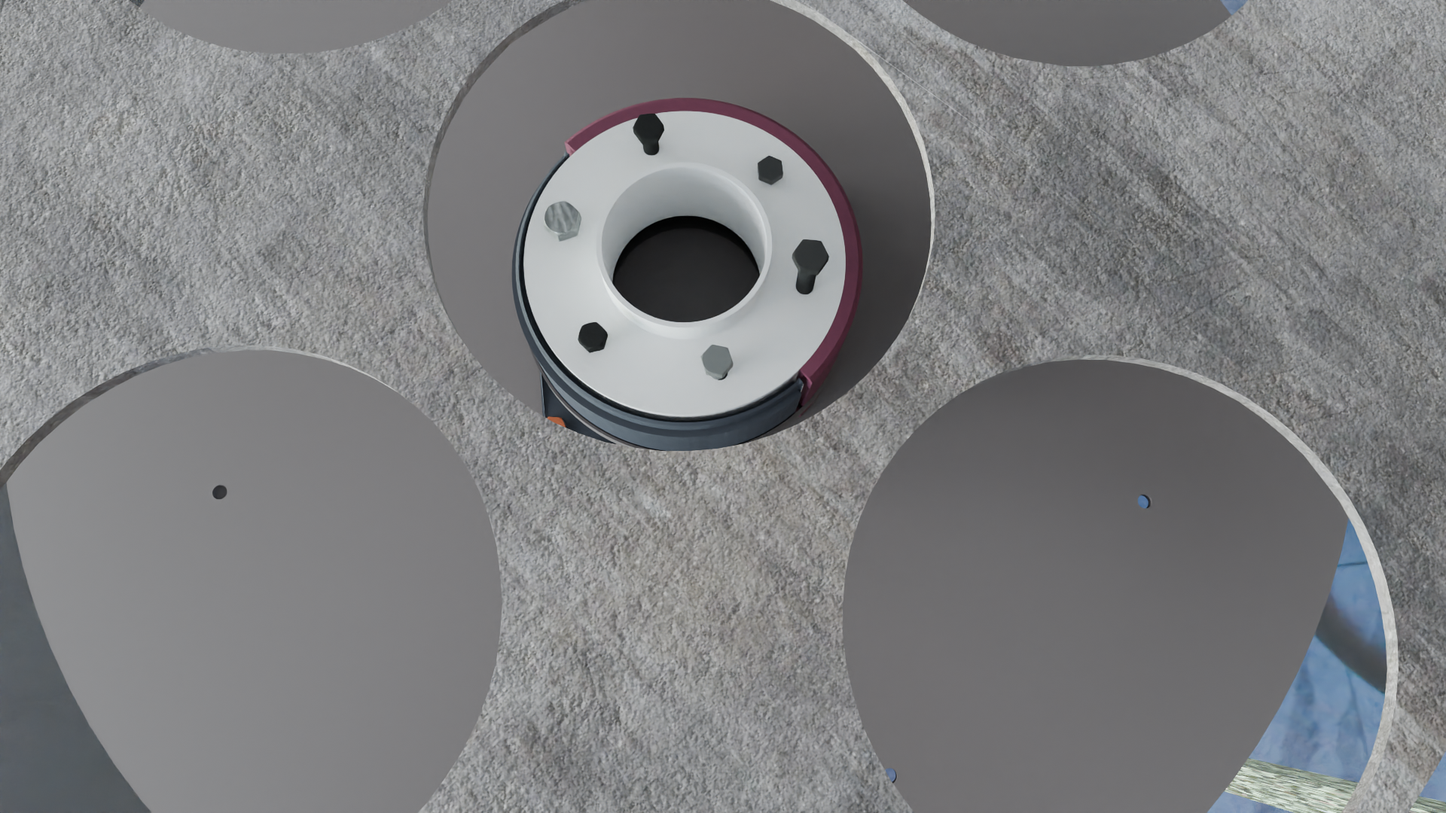bolt: (543, 201, 580, 236), (792, 239, 829, 271), (700, 345, 734, 376), (578, 322, 607, 349), (633, 114, 664, 139), (758, 156, 783, 181)
